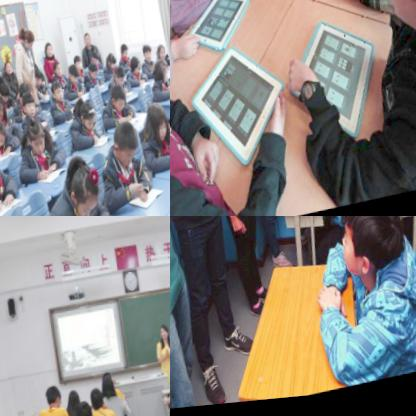head: (330, 216, 405, 299), (107, 125, 142, 180), (65, 165, 101, 216), (140, 105, 168, 150), (22, 119, 45, 161), (72, 102, 97, 137), (39, 381, 62, 416), (105, 89, 127, 120), (150, 62, 169, 90), (84, 390, 101, 416), (61, 389, 78, 415), (19, 95, 35, 121), (48, 82, 64, 108), (153, 326, 170, 350), (96, 373, 112, 398), (83, 63, 99, 87), (70, 400, 94, 416), (18, 29, 33, 53), (127, 58, 142, 82), (110, 67, 124, 90), (15, 84, 31, 104), (66, 66, 78, 89), (31, 70, 42, 93), (154, 48, 167, 67), (0, 83, 10, 107), (51, 63, 63, 83), (140, 49, 152, 69), (104, 57, 115, 76), (118, 46, 128, 64), (43, 43, 53, 60), (72, 57, 81, 75), (0, 122, 5, 150), (2, 64, 12, 78), (82, 36, 91, 51), (165, 383, 170, 408), (0, 98, 4, 123)
